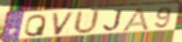9: (154, 6, 172, 29)
A: (119, 7, 150, 33)
J: (102, 9, 123, 32)
Q: (23, 13, 47, 38)
U: (72, 10, 102, 36)
V: (50, 10, 77, 37)
